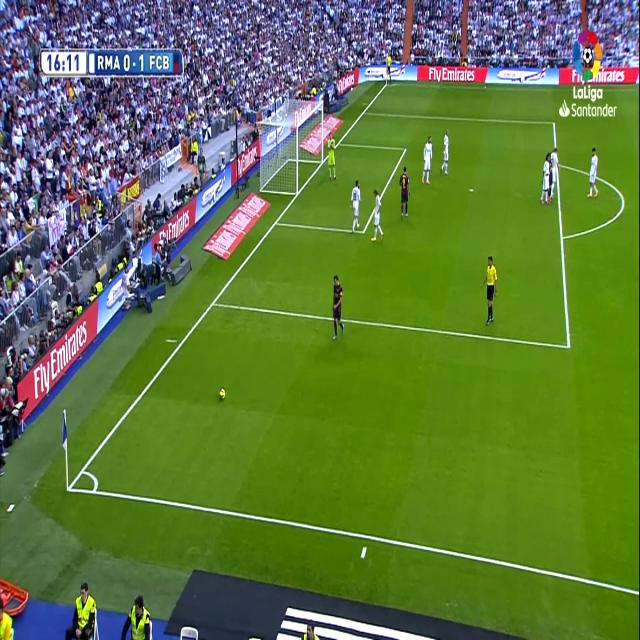bigarea_bottom_inner: (360, 222, 366, 239)
bigarea_top_inner: (402, 142, 408, 156)
bigarea_top_outter: (361, 106, 367, 116)
bottom_arc_area_intersection: (209, 294, 216, 312)
smallarea_bottom_outter: (272, 213, 280, 230)
smallarea_top_outter: (336, 136, 342, 149)
